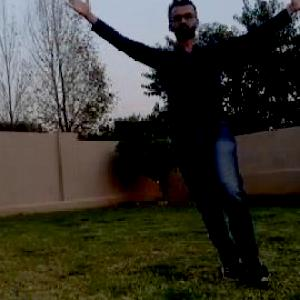takeoff: (73, 0, 298, 272)
